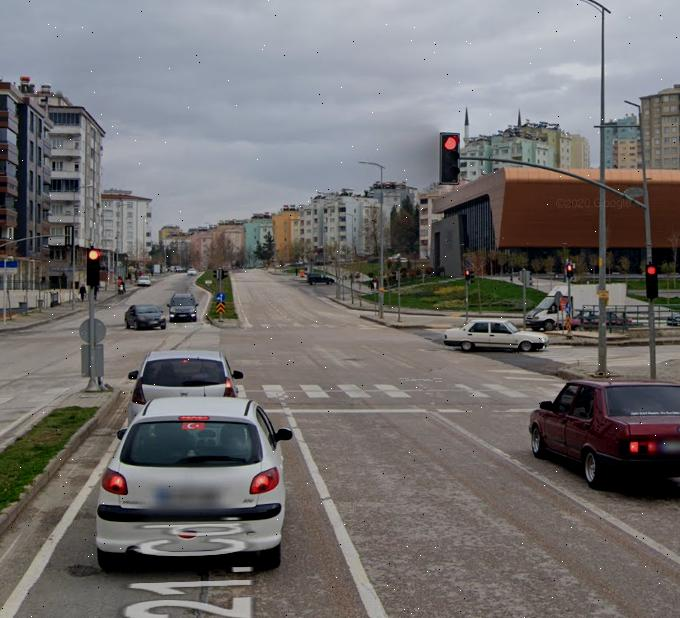redlight: (441, 133, 460, 186), (644, 265, 659, 302), (86, 249, 100, 286), (567, 262, 573, 279), (465, 269, 470, 282)
